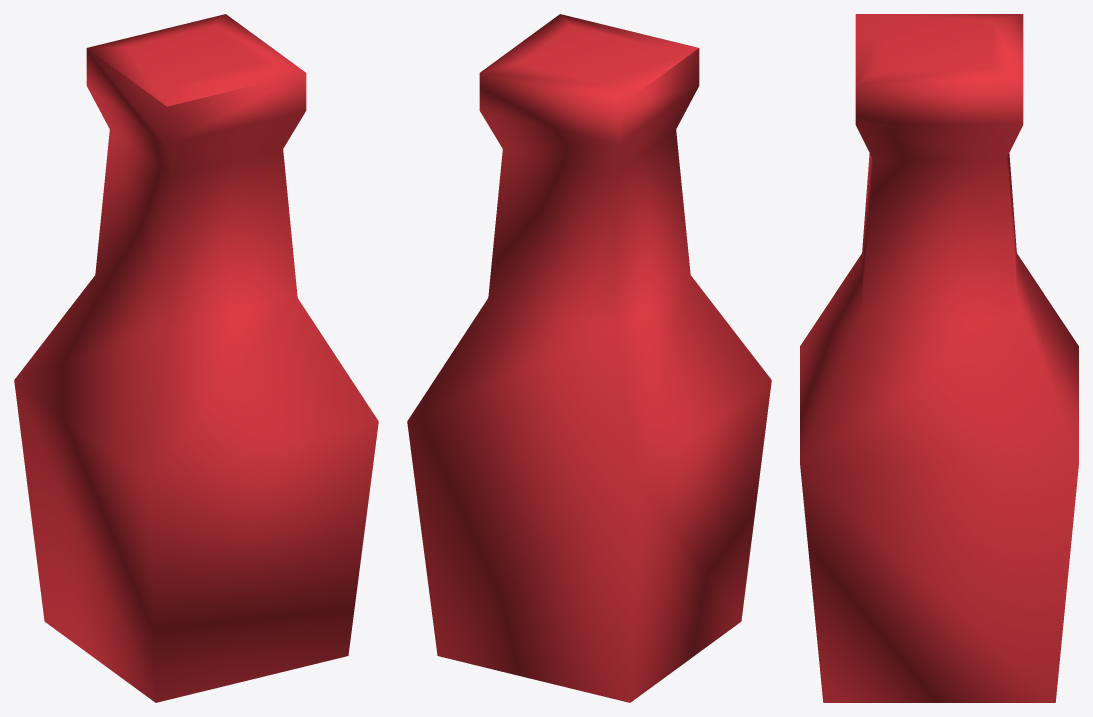
File: Bottles.fbx
3 renders of one model, left to right at view 1: azimuth 30°, elevation 25°; view 2: azimuth 150°, elevation 25°; view 3: azimuth 270°, elevation 25°, orthographic. The views are drawn at different scales.
Visible parts, largest first — view 1: Cube; view 2: Cube; view 3: Cube.
Part boxes in pixels (x1,y1,x2,y2): Cube: (14, 14, 378, 702); Cube: (407, 14, 771, 702); Cube: (800, 14, 1078, 702).
Bounding box in the file's own units: 153 × 368 × 153.
